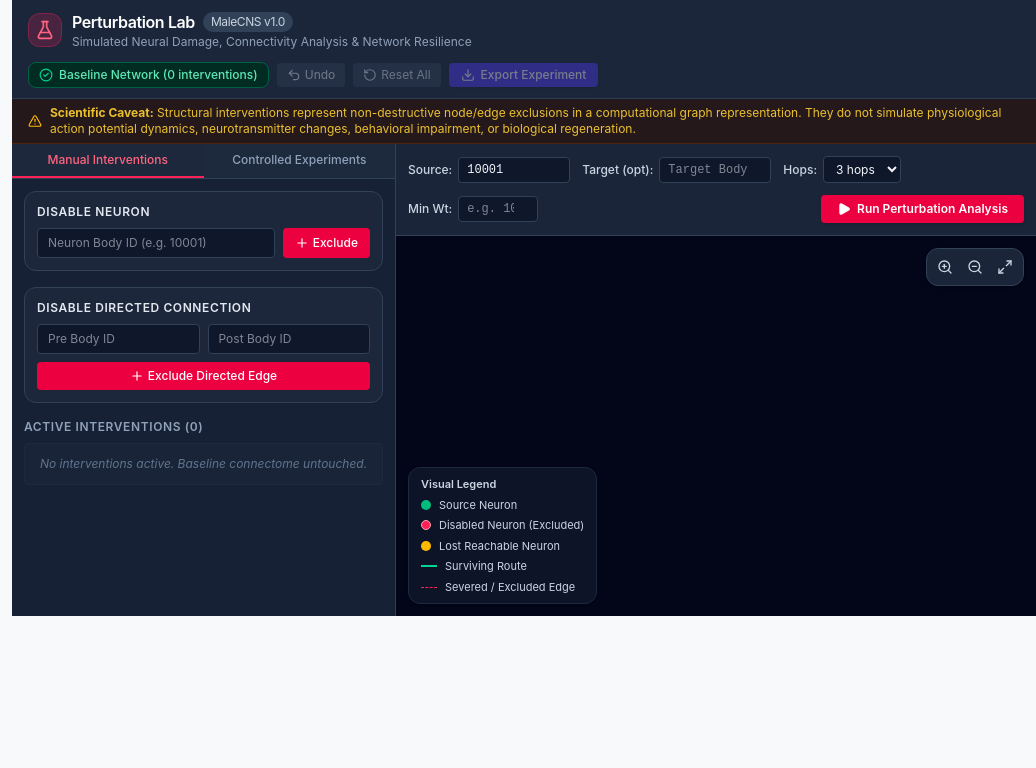
Test: PerturbationLab (V5) Component › allows undoing interventions and resetting to baseline
Step 1. Type "800146" into the number field with placeholder "Neuron Body ID (e.g. 10001)" → (156, 243), box [37,228,275,258]
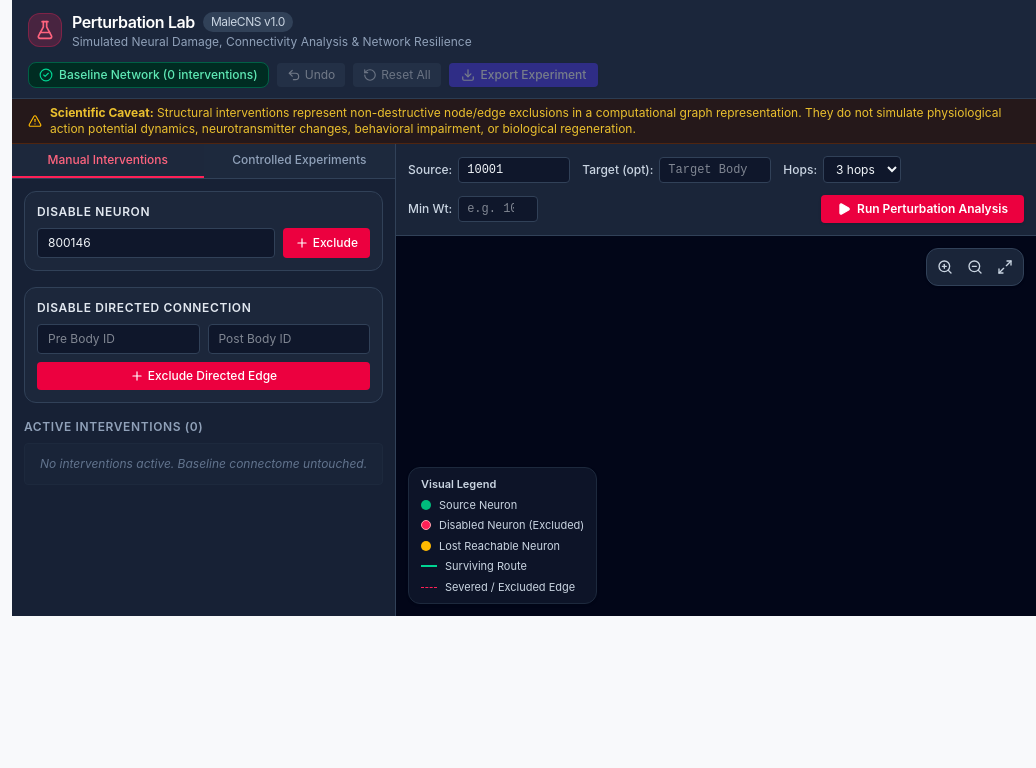
Step 2. Click the button "Exclude" → (326, 243), box [283,228,370,258]
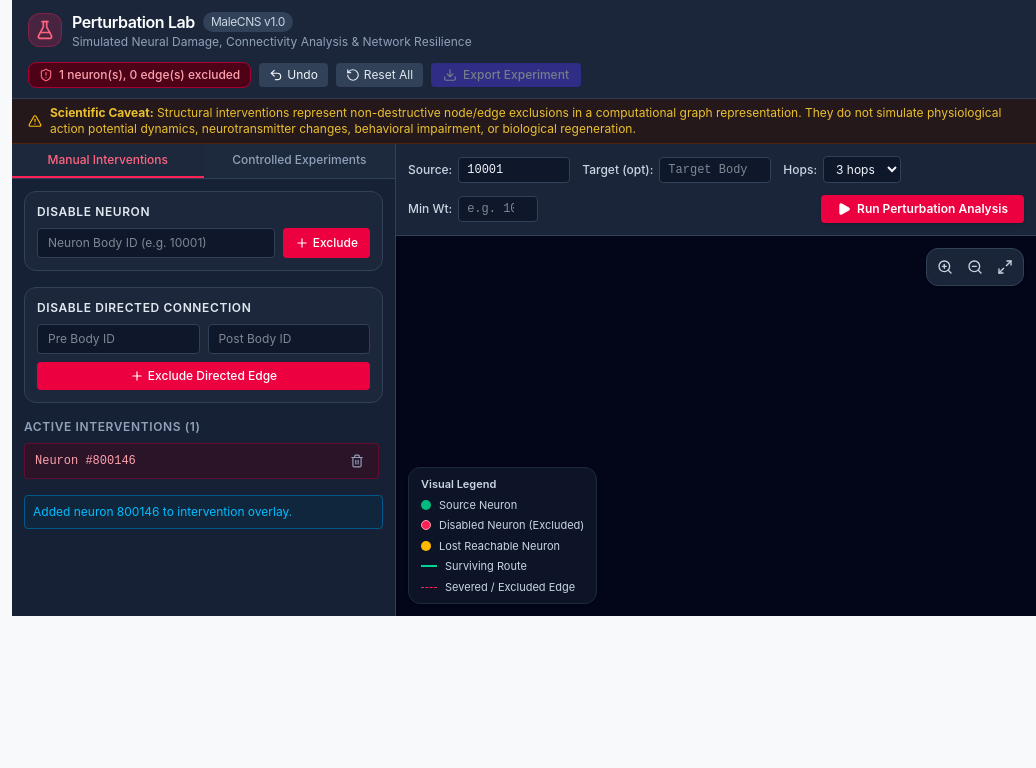
Expected: the text "Neuron #800146" is shown, [35,453,136,469]
Step 3. Click the button titled "Revert most recent intervention change" → (294, 75), box [259,63,328,87]
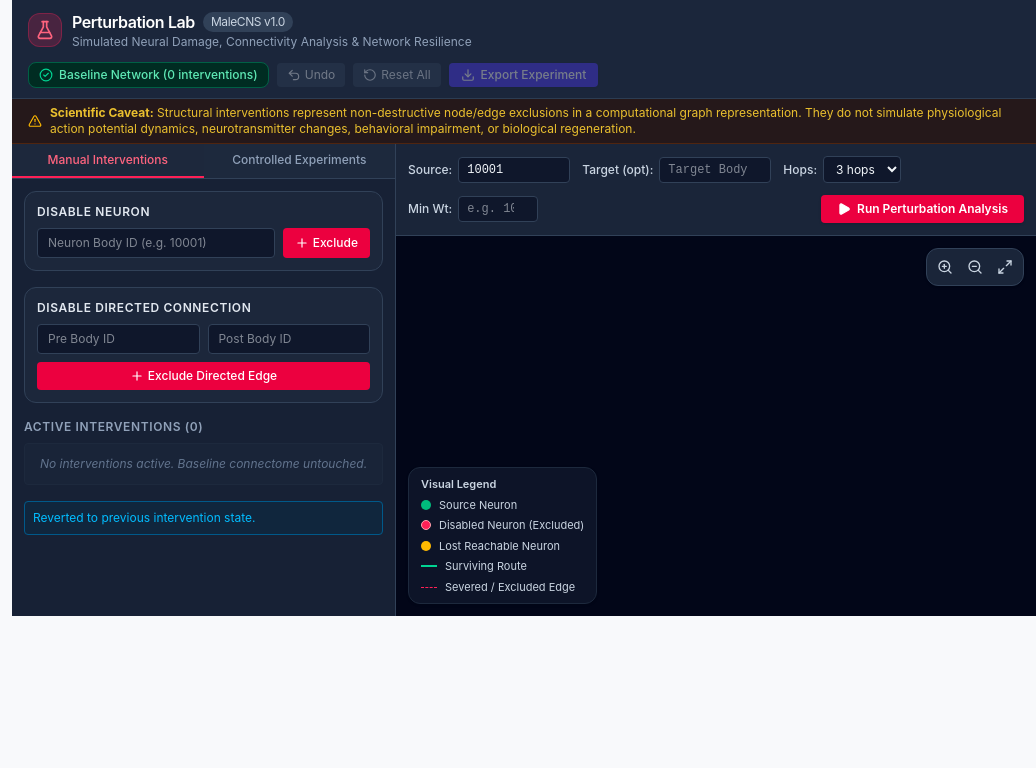
Expected: the text "Neuron #800146" is gone
